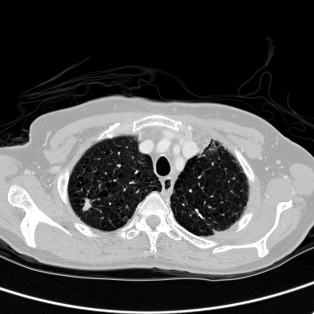nodule: (81, 200, 93, 212)
